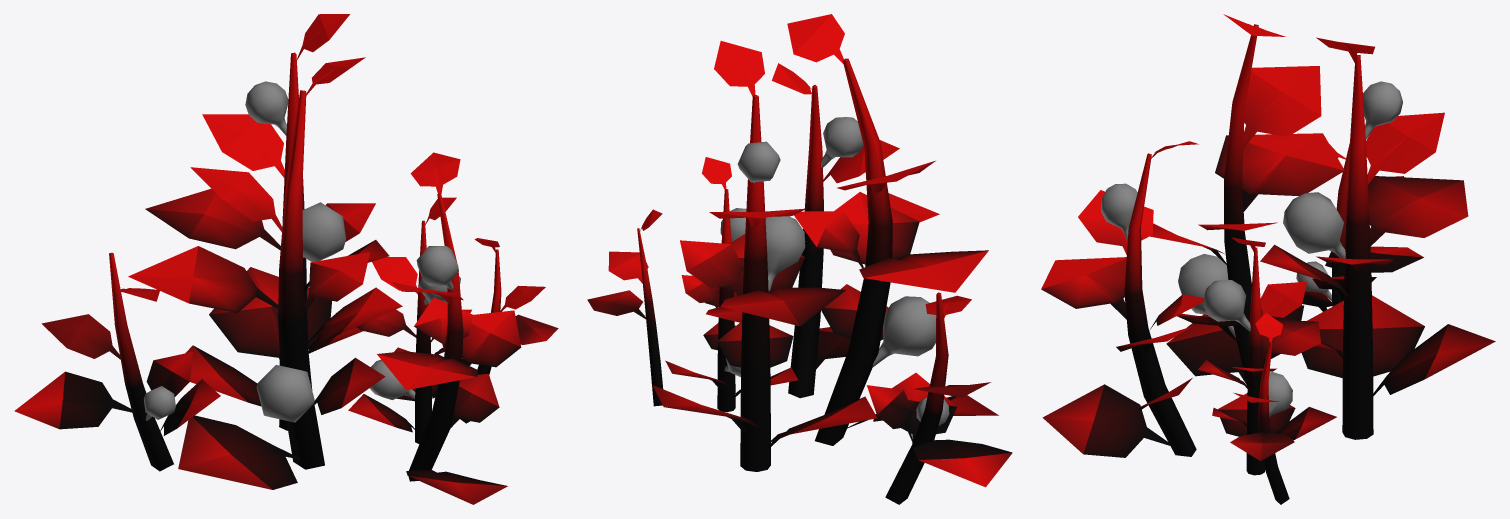
Rendered from SM_BerryShrub_01_LOD1.fbx.
3 views of the same model, side by side, from view 1: azimuth 30°, elevation 25°; view 2: azimuth 150°, elevation 25°; view 3: azimuth 270°, elevation 25° (orthographic). The views are drawn at different scales.
Visible parts, largest first — view 1: Shrub_01_LOD1, Berry_01_LOD1; view 2: Shrub_01_LOD1, Berry_01_LOD1; view 3: Shrub_01_LOD1, Berry_01_LOD1.
Part boxes in pixels (<box>): Shrub_01_LOD1: <box>14,14,558,504</box>; Berry_01_LOD1: <box>143,81,460,422</box>; Shrub_01_LOD1: <box>587,14,1012,504</box>; Berry_01_LOD1: <box>720,117,949,425</box>; Shrub_01_LOD1: <box>1041,14,1495,504</box>; Berry_01_LOD1: <box>1101,81,1402,417</box>.
Bounding box in the file's own units: 177 × 147 × 145.
